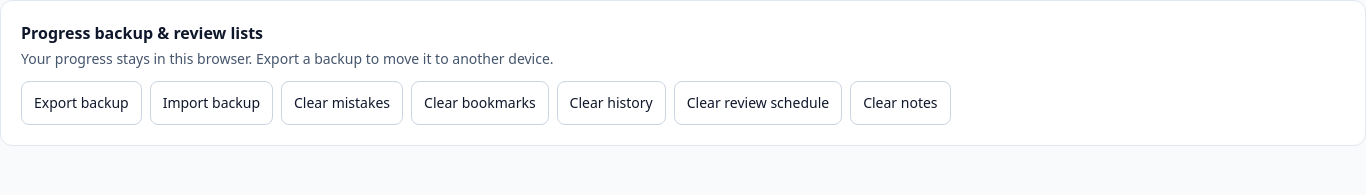
Scenario: ProgressTools › replaces a stale success message when a later reset cannot be saved
Click the button "Clear history". click: (611, 103)
box: top-left (557, 81), bottom-right (666, 125)
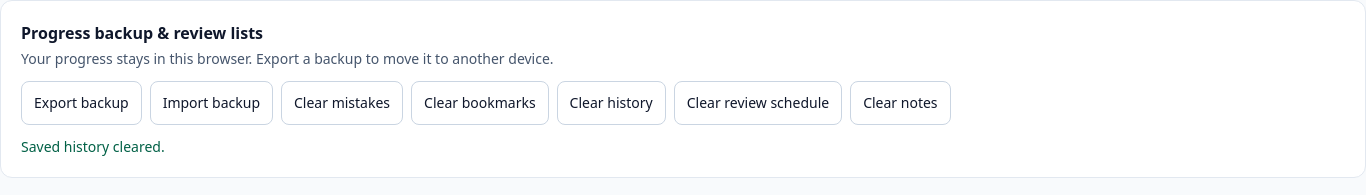
Expected: the message shows "Saved history cleared", top-left (21, 137), bottom-right (165, 156)
Click the button "Clear mistakes". click: (342, 103)
box: top-left (281, 81), bottom-right (403, 125)
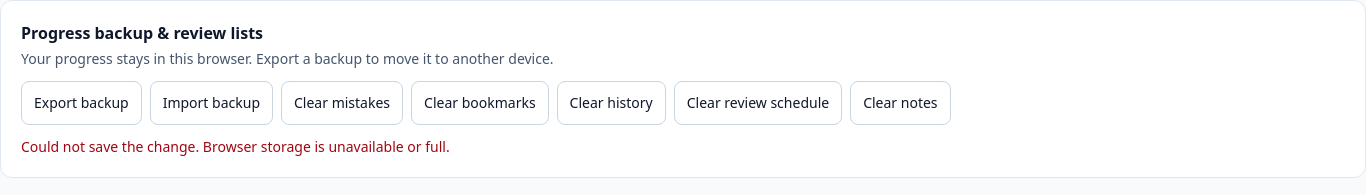
Expected: the message shows "Could not save the change", top-left (21, 137), bottom-right (450, 156)
